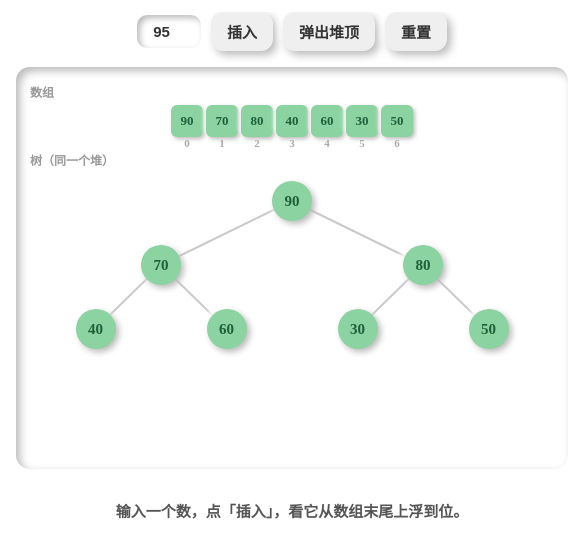
Test: HeapViz › TC-VIZ-HEAPVIZ-05 extract 解说弹出 + 最大值 90
Click the button "弹出堆顶" at [329, 32], box x1=283 y1=12 x2=375 y2=51
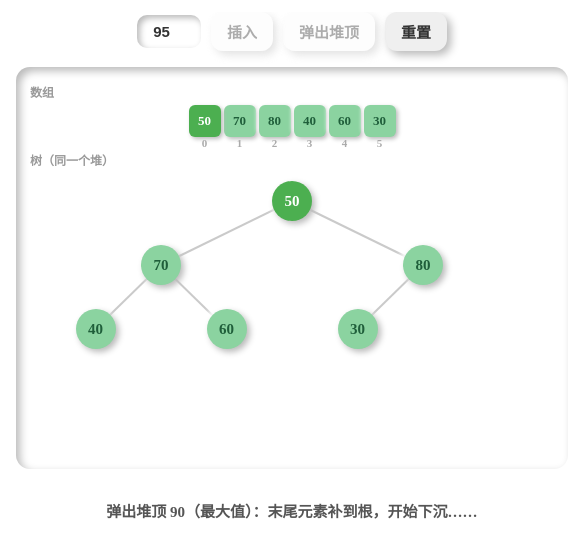
Check: the message with class "status" shows "弹出", box x1=106 y1=504 x2=478 y2=520
Check: the message with class "status" shows "90", box x1=106 y1=504 x2=478 y2=520
